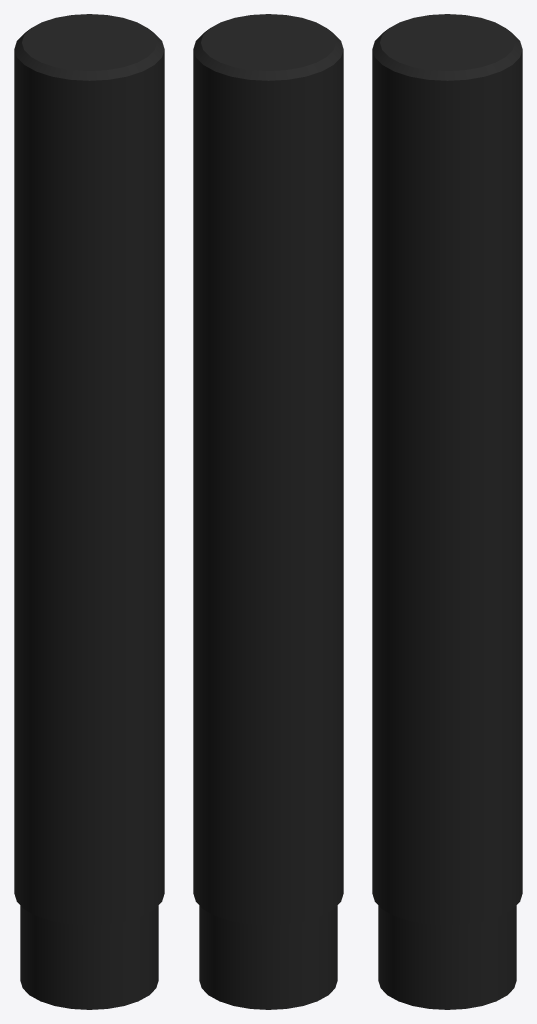
File: Arrow_SRB_0_3.obj
3 renders of one model, left to right at view 1: azimuth 30°, elevation 25°; view 2: azimuth 150°, elevation 25°; view 3: azimuth 270°, elevation 25°, orthographic.
Visible parts, largest first — view 1: Arrow_SRB_0_3; view 2: Arrow_SRB_0_3; view 3: Arrow_SRB_0_3.
Boxes of the visible parts, x1,y1,x2,y2 form: Arrow_SRB_0_3: (14, 14, 164, 1009); Arrow_SRB_0_3: (193, 14, 343, 1009); Arrow_SRB_0_3: (372, 14, 522, 1009).
Size of the model in its own units: 0.625 by 4.36 by 0.625.
